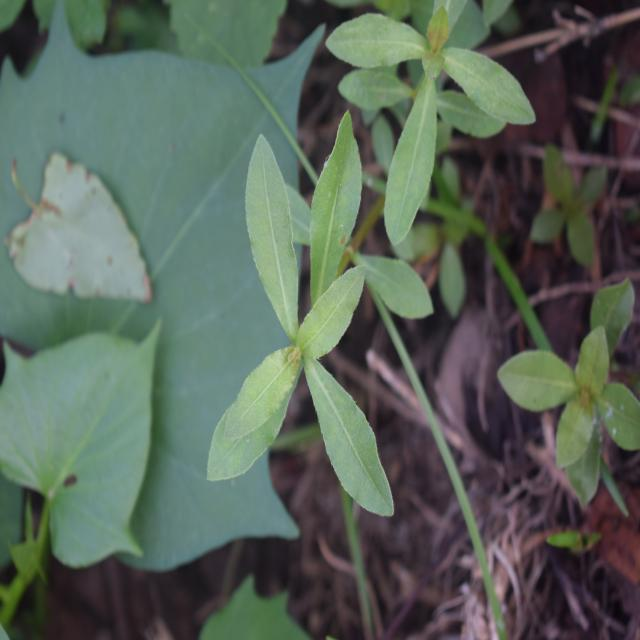Alligatorweed: (208, 115, 412, 505), (321, 0, 517, 245), (493, 259, 640, 503)
